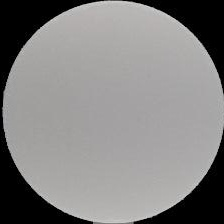61919-451: (0, 0, 224, 224)
